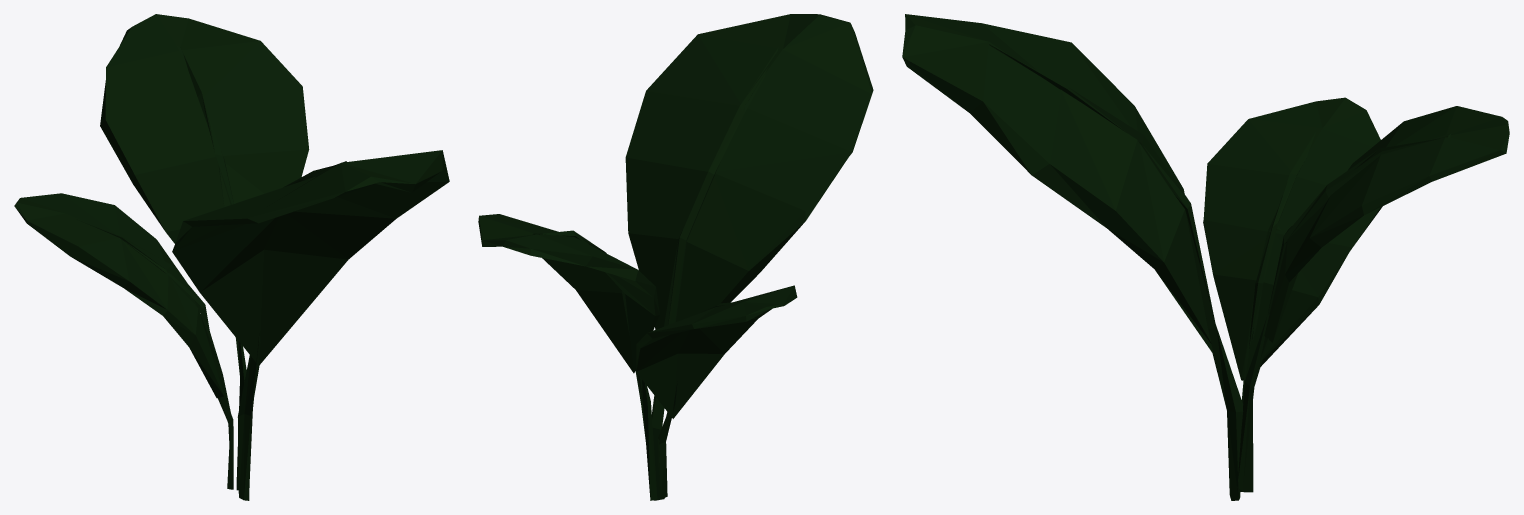
Rendered from plant_3.obj.
3 views of the same model, side by side, from view 1: azimuth 30°, elevation 25°; view 2: azimuth 150°, elevation 25°; view 3: azimuth 270°, elevation 25° (orthographic). The views are drawn at different scales.
Parts seen in each view (by area): view 1: plant_3; view 2: plant_3; view 3: plant_3.
Boxes of the visible parts, x1=… form: plant_3: x1=14, y1=14, x2=449, y2=500; plant_3: x1=478, y1=14, x2=873, y2=500; plant_3: x1=902, y1=14, x2=1509, y2=500.
Size of the model in its own units: 1.04 by 1.48 by 1.76.
